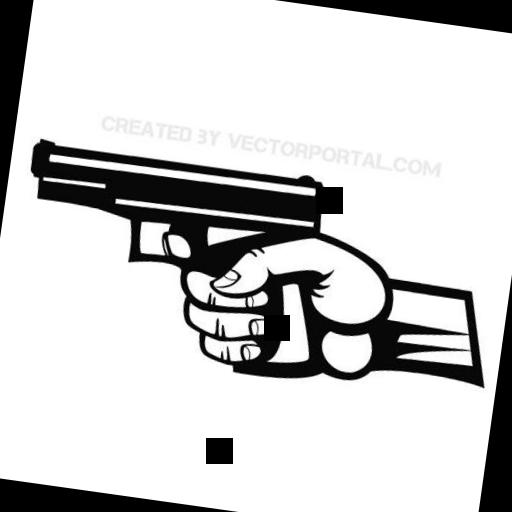Handgun: (2, 128, 346, 384)
